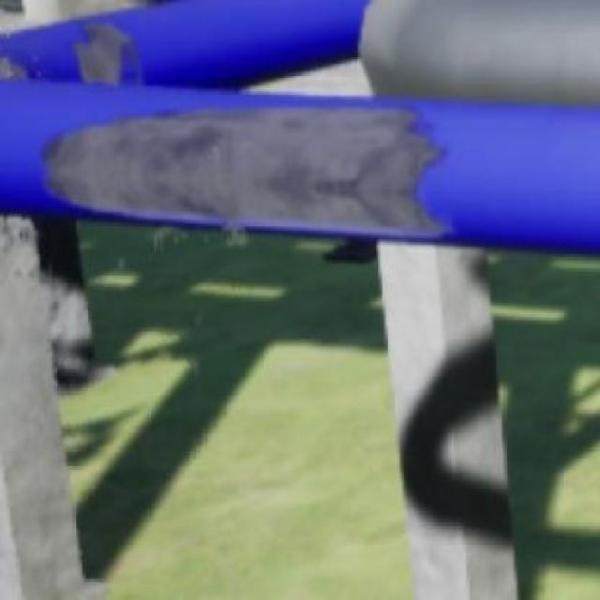gas: (91, 98, 451, 372)
